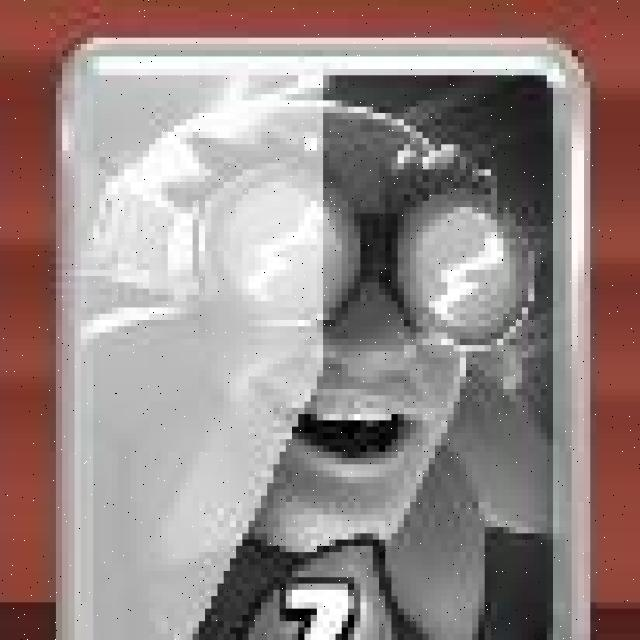Electro_Giant: (53, 32, 594, 640)
